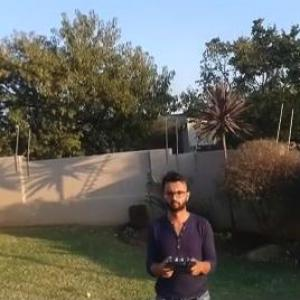follow: (143, 164, 222, 299)
